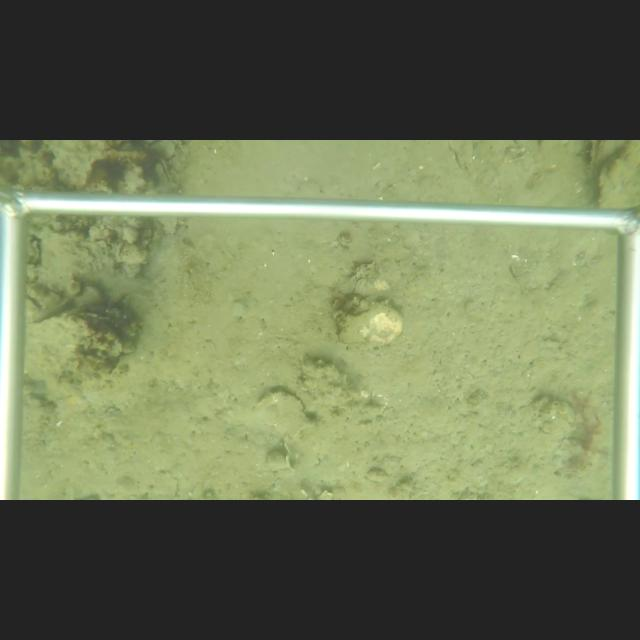Oyster-Closed: (21, 312, 90, 380), (338, 300, 404, 348), (596, 140, 640, 212)
Oyster-Open: (155, 158, 173, 186)
